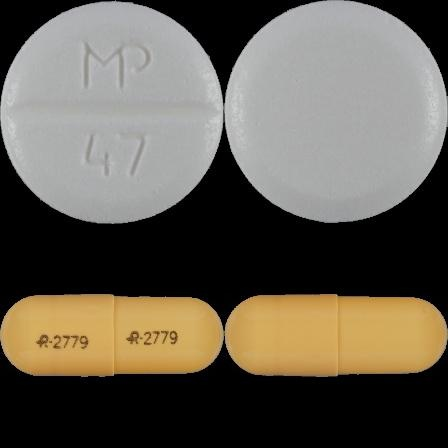54868-1073: (0, 0, 224, 224)
